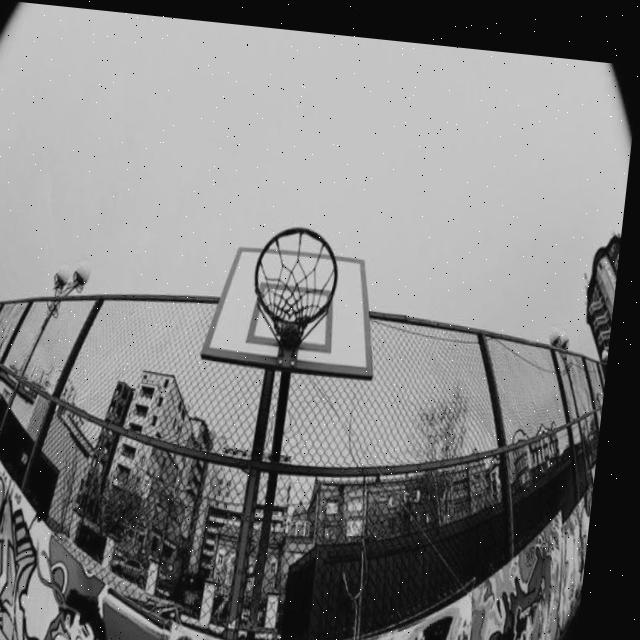hoop: (231, 235, 367, 379)
